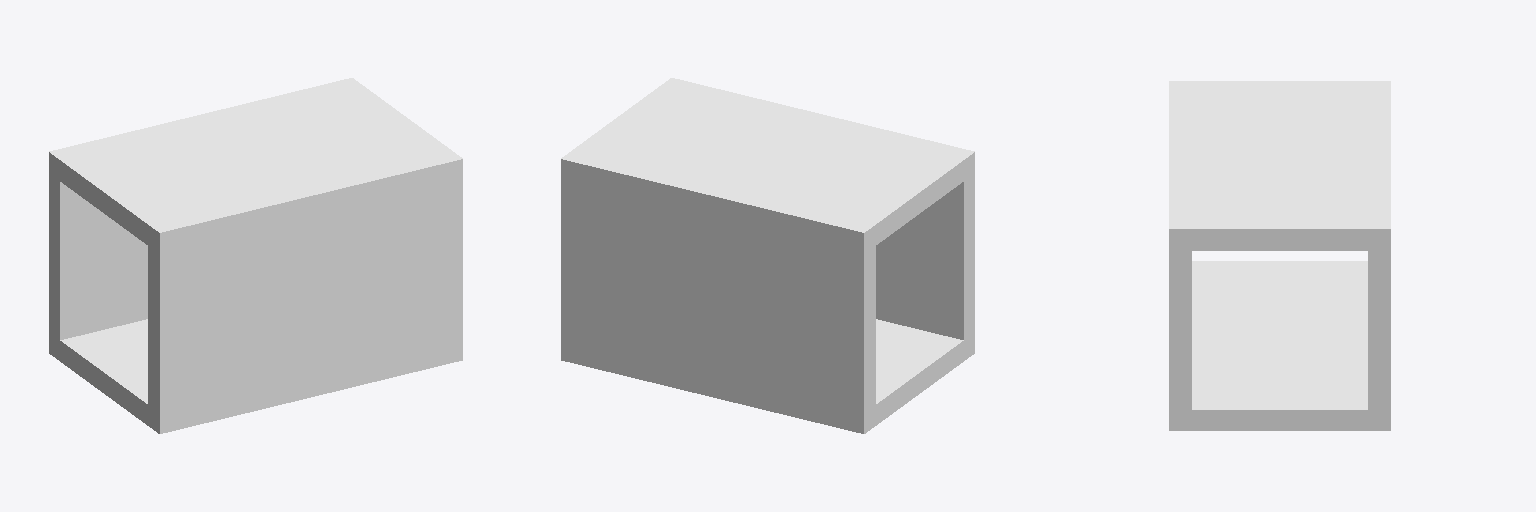
Rendered from vent_short.obj.
The picture shows the model from 3 angles: view 1: azimuth 30°, elevation 25°; view 2: azimuth 150°, elevation 25°; view 3: azimuth 270°, elevation 25°; orthographic projection.
Parts seen in each view (by area): view 1: object 1; view 2: object 1; view 3: object 1.
Boxes of the visible parts, box(x1,y1,x2,y2) form: object 1: box(49, 78, 462, 433); object 1: box(561, 78, 974, 433); object 1: box(1169, 81, 1390, 430).
Bounding box in the file's own units: 3 × 1.9 × 1.9.